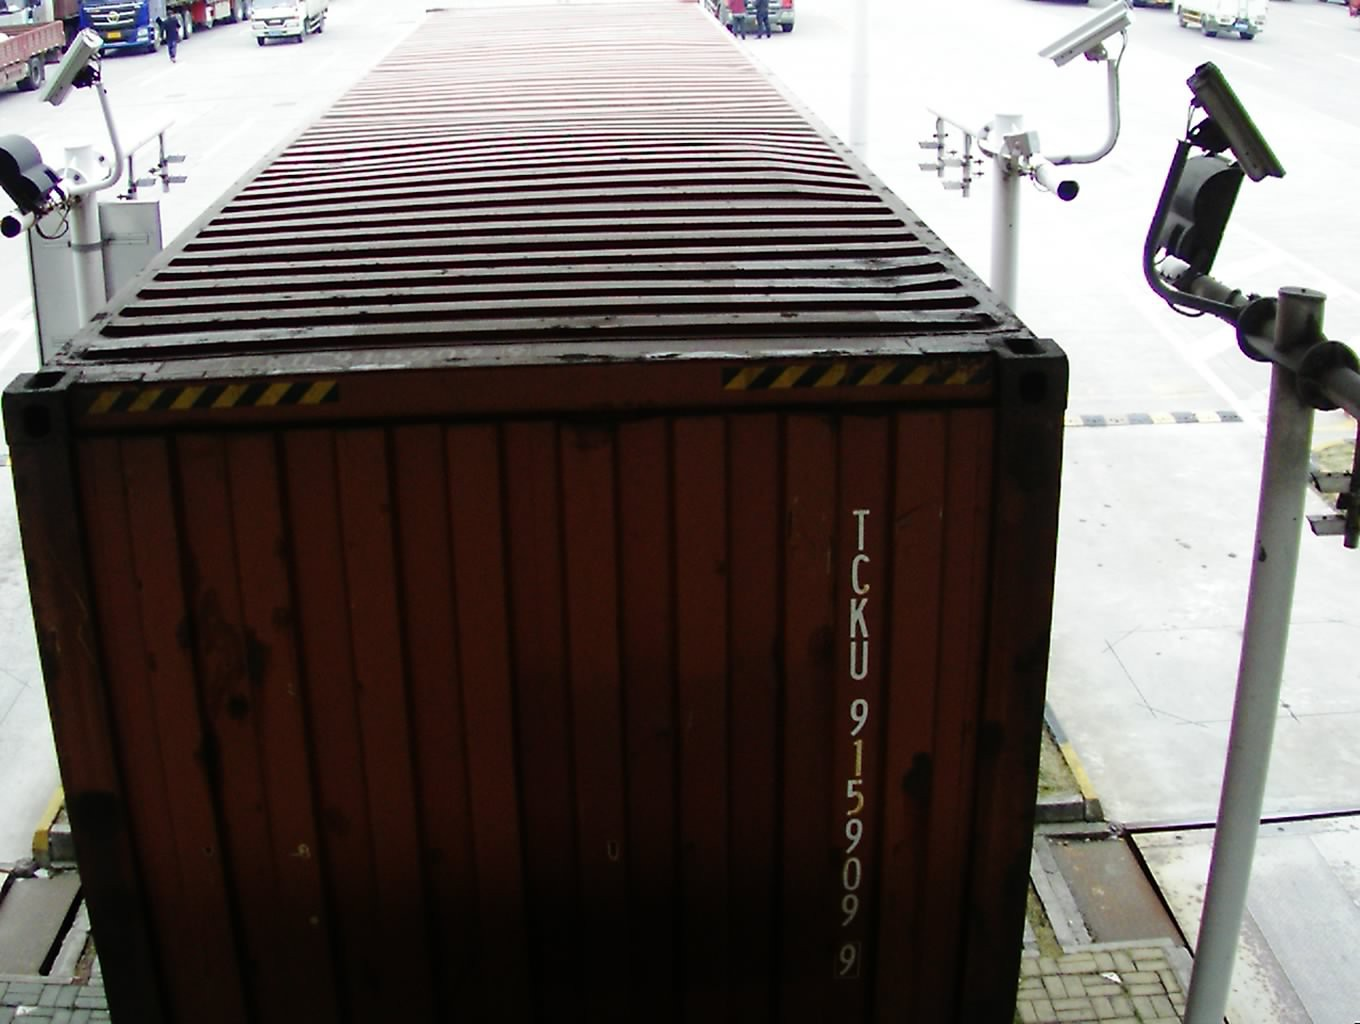words: (836, 500, 881, 983)
